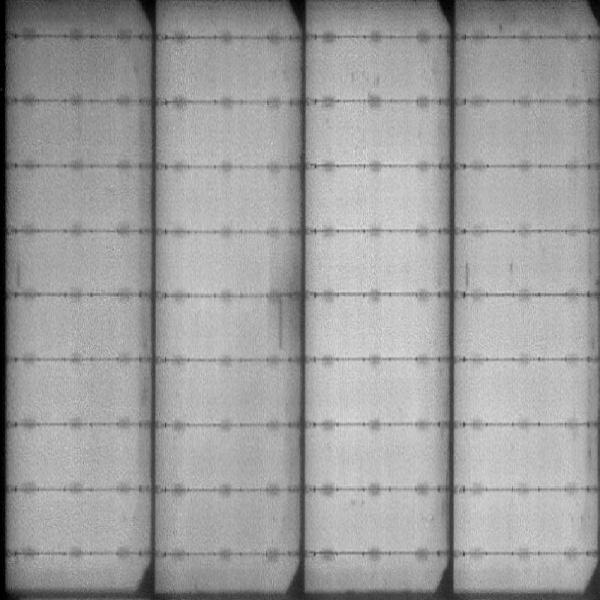scratch: (276, 295, 285, 350), (459, 259, 473, 289)
